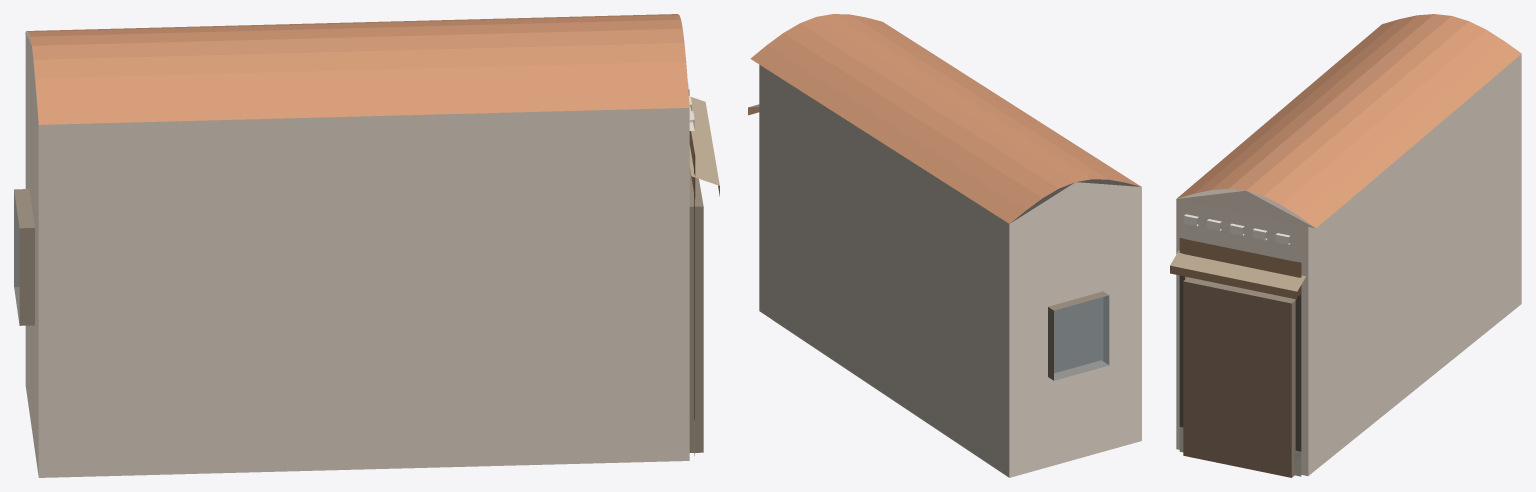
3 views of the same model, side by side, from view 1: azimuth 30°, elevation 25°; view 2: azimuth 150°, elevation 25°; view 3: azimuth 270°, elevation 25° (orthographic). The views are drawn at different scales.
Parts seen in each view (by area): view 1: E-12; view 2: E-12; view 3: E-12.
Boxes of the visible parts, x1,y1,x2,y2 form: E-12: [14, 14, 719, 477]; E-12: [748, 14, 1141, 477]; E-12: [1170, 14, 1521, 477].
Bounding box in the file's own units: 6.84 × 4.15 × 4.85.
